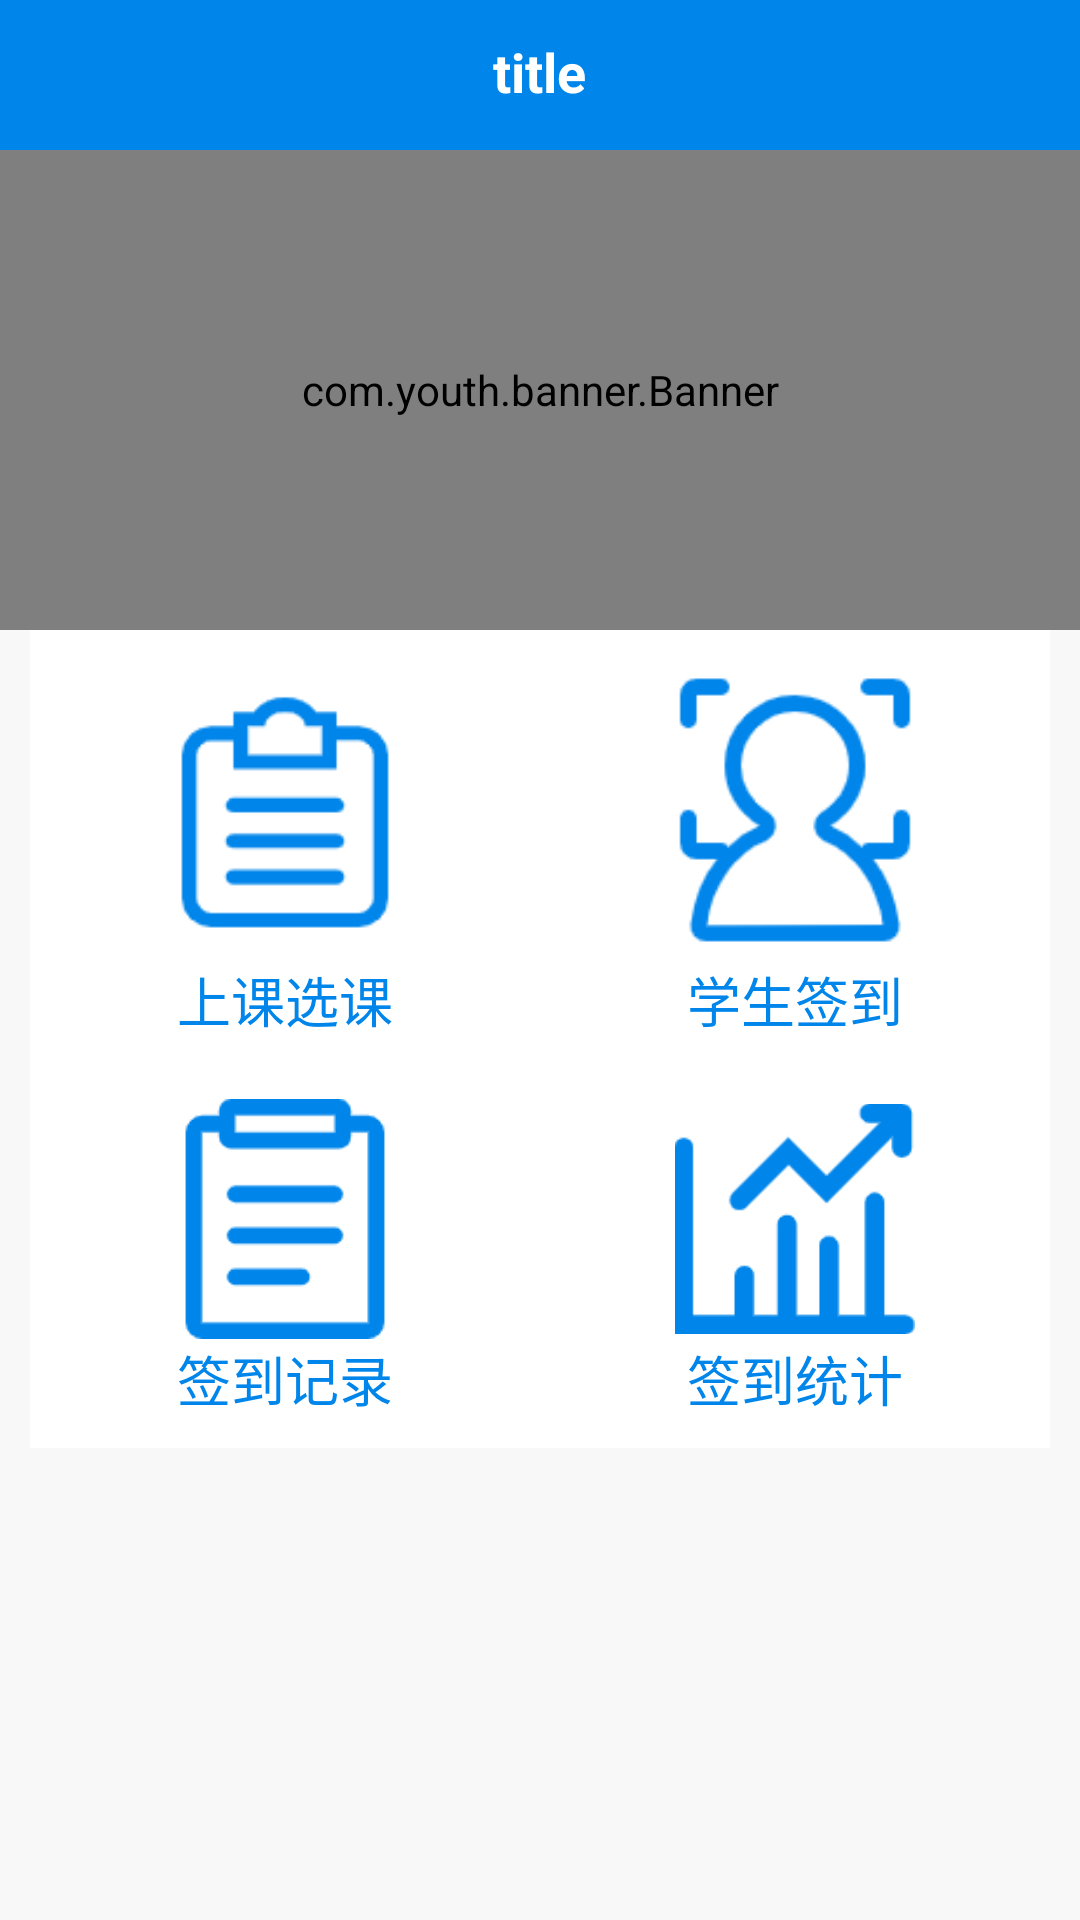

Named icons in this screenshot (1080 x 1920) and their centers, point (x, y):
face: point (795, 810)
